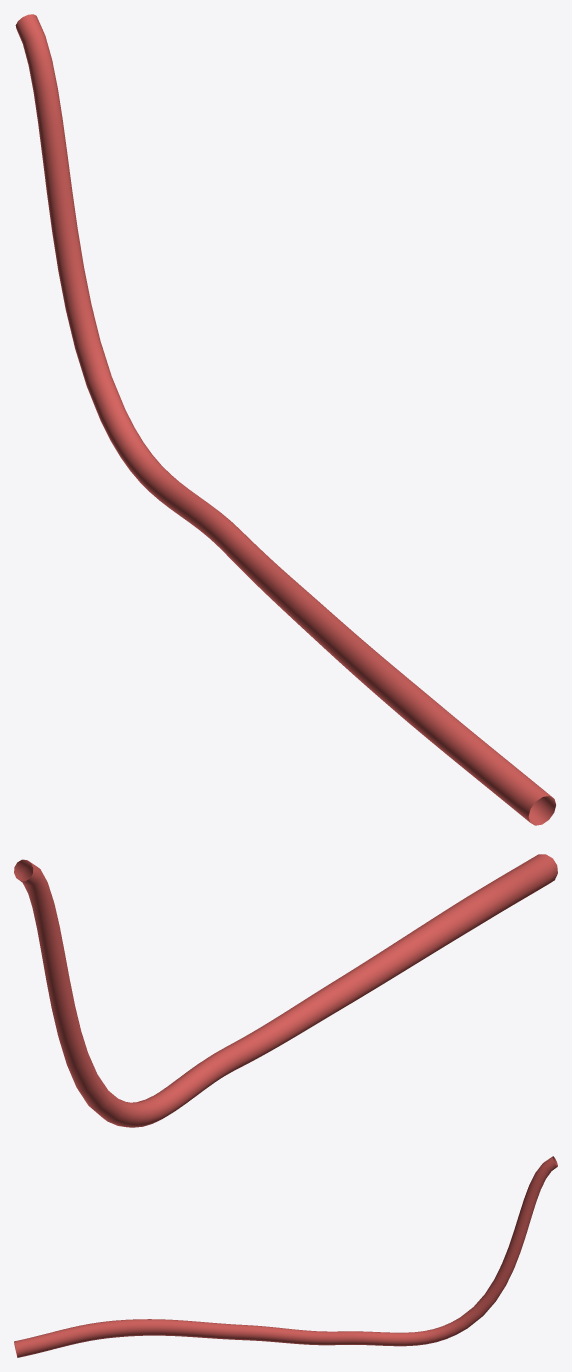
3 views of the same model, one above another, from view 1: azimuth 30°, elevation 25°; view 2: azimuth 150°, elevation 25°; view 3: azimuth 270°, elevation 25° (orthographic). The views are drawn at different scales.
Visible parts, largest first — view 1: 左侧尺侧下副动脉; view 2: 左侧尺侧下副动脉; view 3: 左侧尺侧下副动脉.
Boxes of the visible parts, <box> form: 左侧尺侧下副动脉: <box>15,14,555,825</box>; 左侧尺侧下副动脉: <box>14,854,557,1127</box>; 左侧尺侧下副动脉: <box>14,1156,557,1357</box>.
Size of the model in its own units: 0.00692 by 0.039 by 0.0932.
